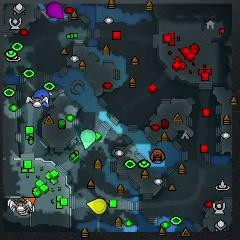p1: (34, 89, 50, 107)
p1Clone: (81, 130, 95, 149)
p3: (46, 2, 64, 18)
p4: (87, 199, 107, 215)
p5: (19, 196, 35, 204)
